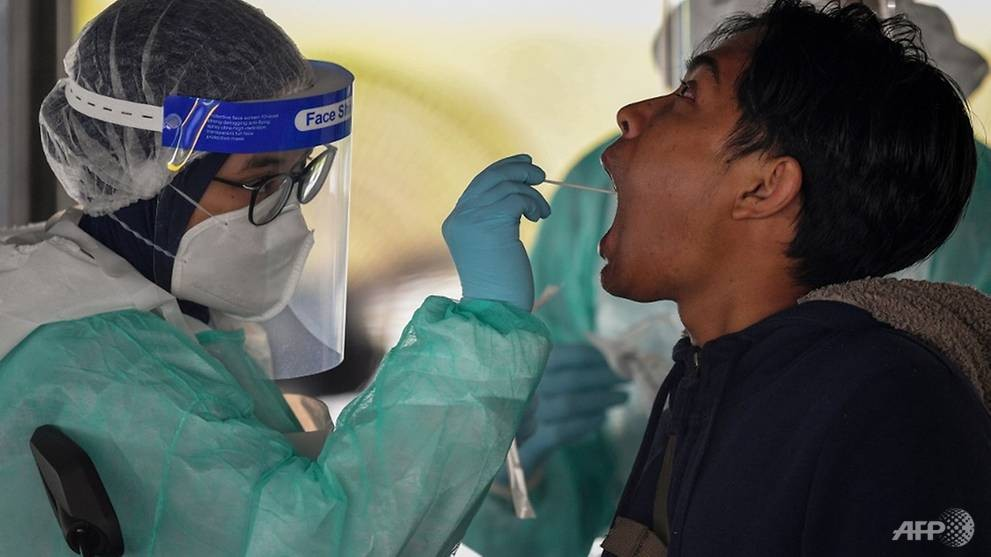Face_Shield: (152, 80, 359, 379)
Gloves: (432, 145, 556, 334)
with_mask: (214, 147, 304, 319)
without_mask: (596, 40, 752, 311)
